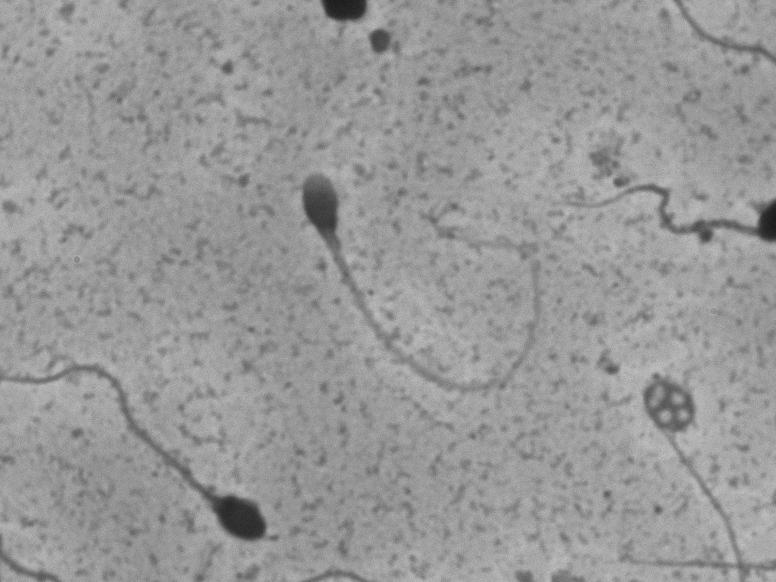Normal: (267, 146, 577, 411), (7, 322, 288, 554)
